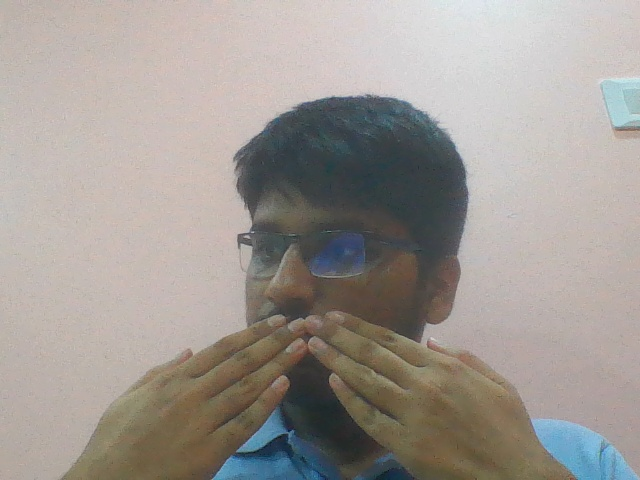thankyou: (72, 307, 570, 476)
